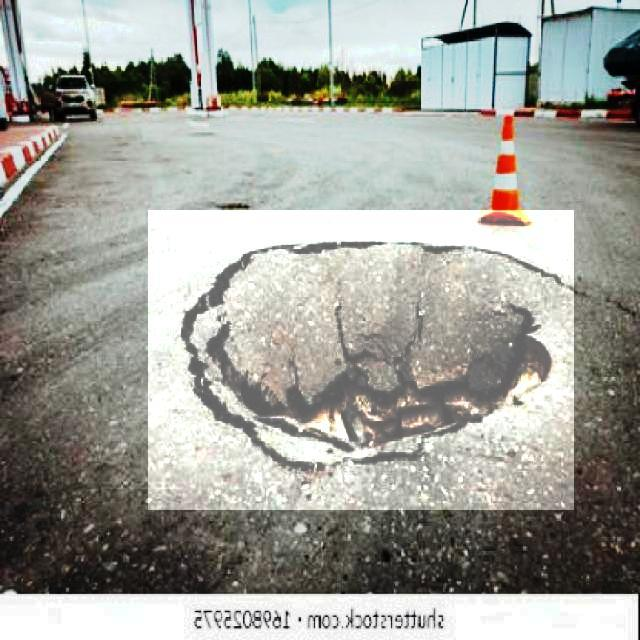pothole: (148, 210, 574, 510)
